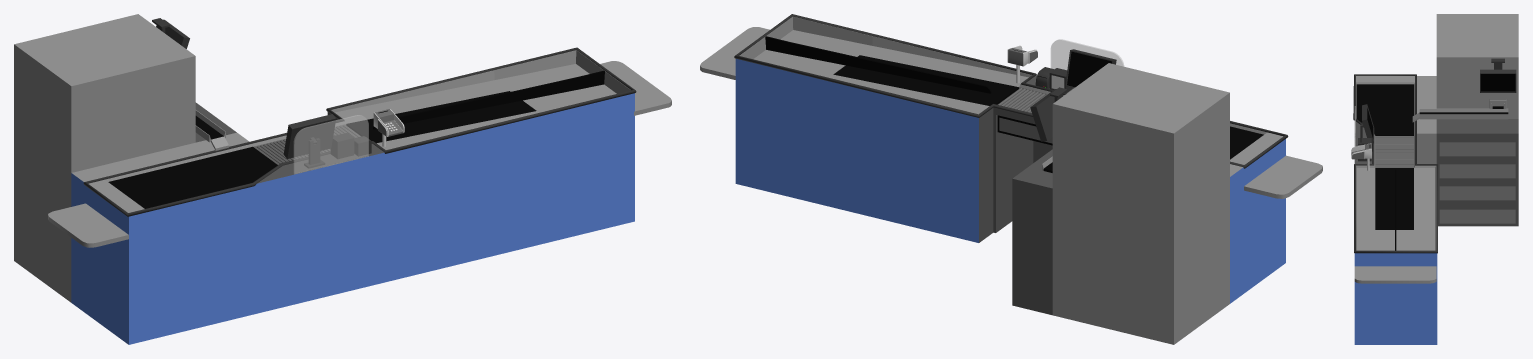
File: CheckoutCounter.fbx
The picture shows the model from 3 angles, left to right: view 1: azimuth 30°, elevation 25°; view 2: azimuth 150°, elevation 25°; view 3: azimuth 270°, elevation 25°; orthographic projection. The views are drawn at different scales.
Parts seen in each view (by area): view 1: Desk, CigaretMachine, Rail, Separator, PosDisplay, CigaretBelts, CardReader, Reader; view 2: Desk, CigaretMachine, Shelf, Rail, Separator, PosDisplay, SecurityDisplay, BoxDrawler, CardReader; view 3: Desk, Shelf, CigaretMachine, Rail, CigaretBelts, SecurityDisplay, CardReader, PosDisplay, CigaretCover, Separator.
Part boxes in pixels (left/top/right/bottom): Desk: left=48, top=50, right=671, bottom=344; CigaretMachine: left=14, top=14, right=195, bottom=302; Rail: left=83, top=47, right=636, bottom=216; Separator: left=373, top=76, right=580, bottom=129; PosDisplay: left=283, top=114, right=336, bottom=158; CigaretBelts: left=195, top=110, right=228, bottom=150; CardReader: left=373, top=109, right=404, bottom=146; Reader: left=330, top=133, right=354, bottom=158; Desk: left=700, top=16, right=1322, bottom=303; CigaretMachine: left=1052, top=63, right=1229, bottom=344; Shelf: left=1012, top=149, right=1052, bottom=315; Rail: left=734, top=14, right=1288, bottom=168; Separator: left=788, top=42, right=991, bottom=93; PosDisplay: left=1065, top=49, right=1116, bottom=88; SecurityDisplay: left=1030, top=89, right=1063, bottom=141; BoxDrawler: left=999, top=117, right=1052, bottom=143; CardReader: left=1007, top=45, right=1037, bottom=83; Desk: left=1354, top=76, right=1437, bottom=344; Shelf: left=1436, top=119, right=1518, bottom=226; CigaretMachine: left=1436, top=14, right=1518, bottom=118; Rail: left=1353, top=74, right=1437, bottom=253; CigaretBelts: left=1412, top=103, right=1508, bottom=122; SecurityDisplay: left=1480, top=69, right=1516, bottom=92; CardReader: left=1351, top=143, right=1371, bottom=170; PosDisplay: left=1360, top=104, right=1374, bottom=143; CigaretCover: left=1488, top=99, right=1507, bottom=108; Separator: left=1395, top=169, right=1396, bottom=243.
Size of what is drawn, in the model's own units: 7.1 by 2.5 by 2.45.
